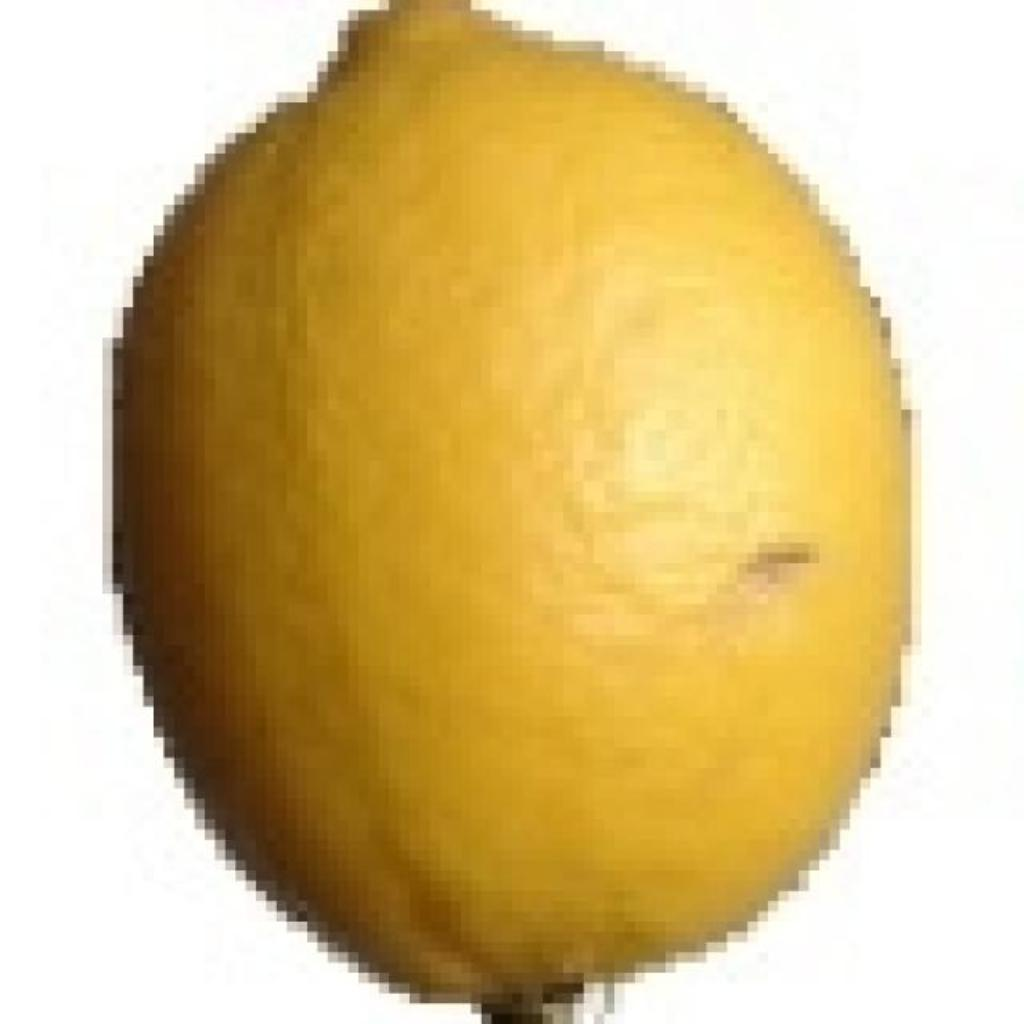lemon: (116, 0, 908, 1024)
